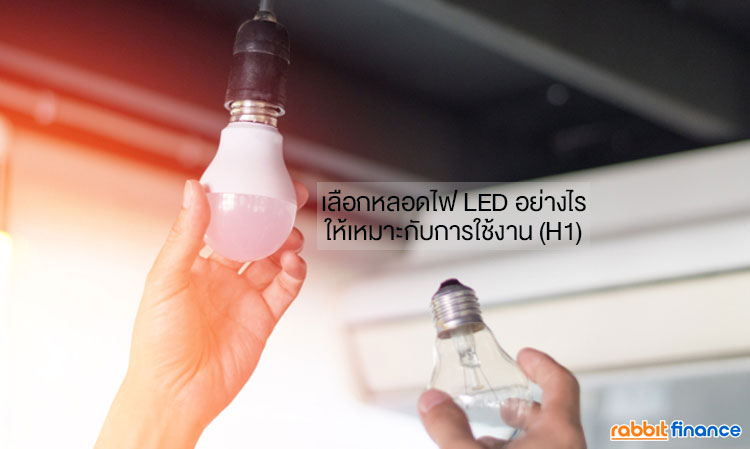Light_bulb: (397, 268, 538, 447), (181, 110, 319, 285)
